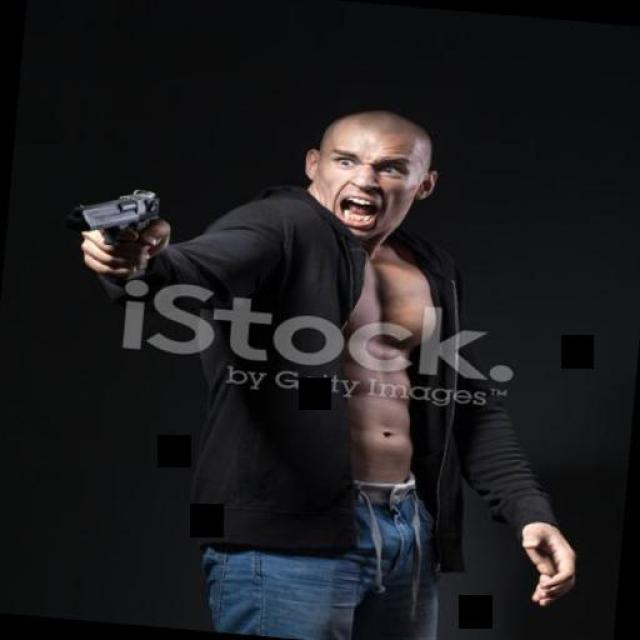gun: (61, 180, 160, 254)
